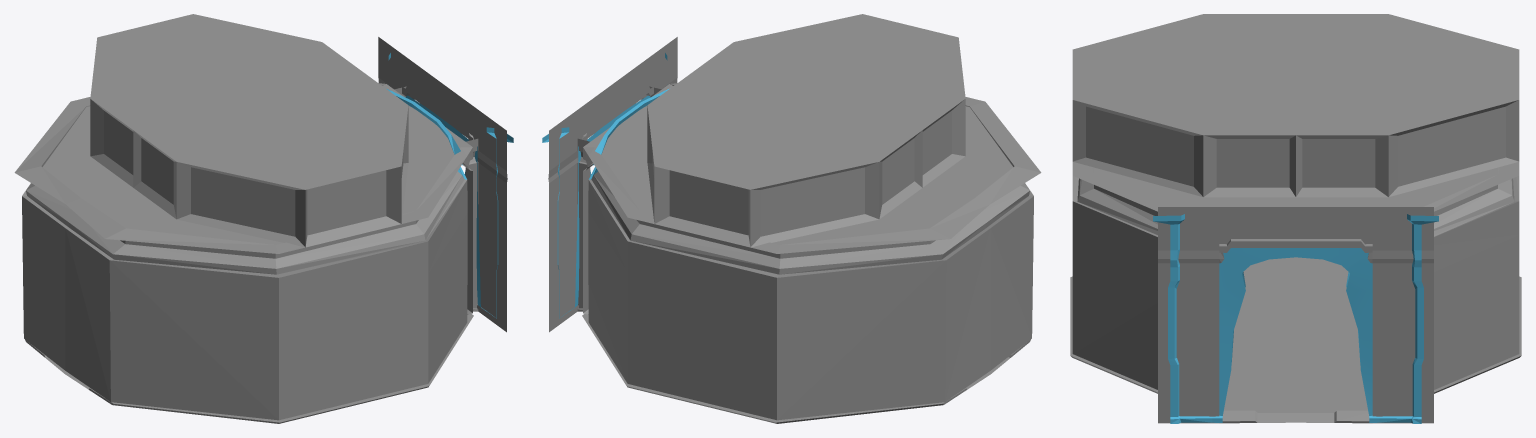
Rendered from Room 1.FBX.
3 views of the same model, side by side, from view 1: azimuth 30°, elevation 25°; view 2: azimuth 150°, elevation 25°; view 3: azimuth 270°, elevation 25° (orthographic). The views are drawn at different scales.
Parts seen in each view (by area): view 1: Room 1; view 2: Room 1; view 3: Room 1.
Boxes of the visible parts, x1,y1,x2,y2 form: Room 1: [14, 14, 513, 423]; Room 1: [542, 14, 1041, 423]; Room 1: [1070, 14, 1521, 423].
Size of the model in its own units: 1054 by 600 by 993.
